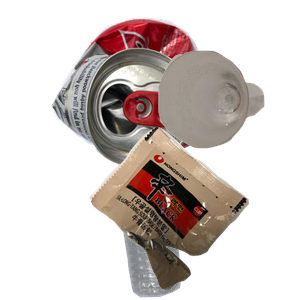glass: (156, 48, 300, 189)
metal: (48, 15, 251, 175)
plastic: (115, 176, 288, 300)
trash: (86, 124, 300, 300)
